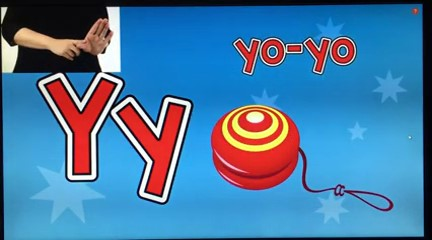Y: (47, 14, 117, 66)
